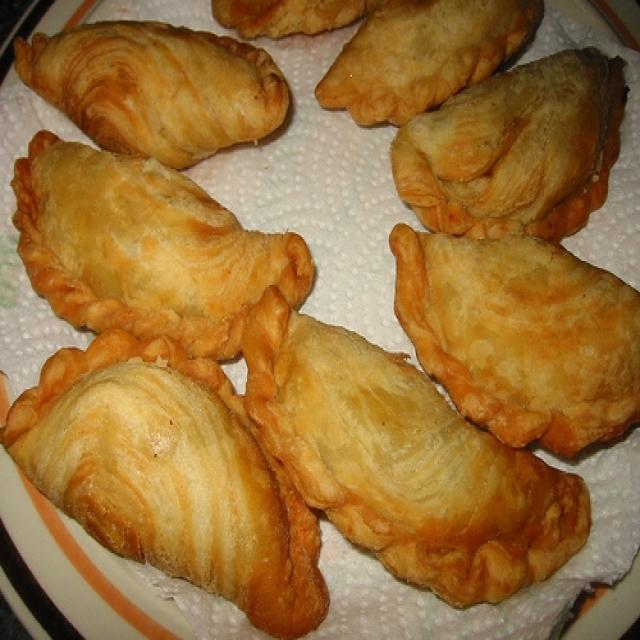炸货点心: (22, 25, 613, 608)
